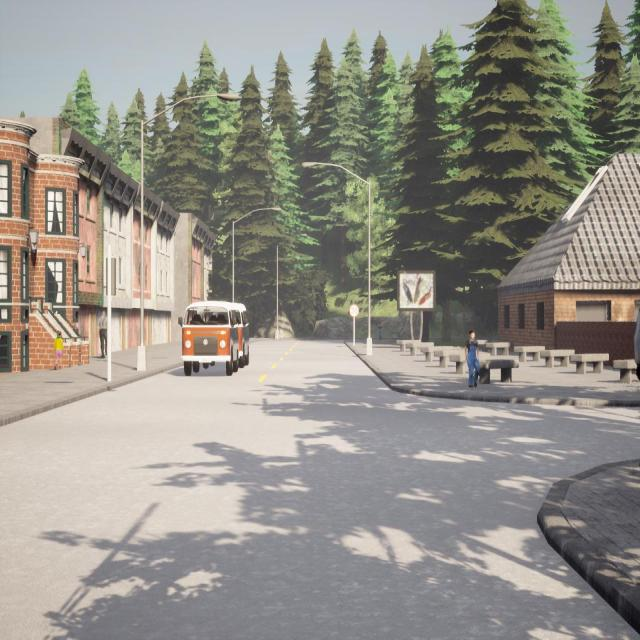Pedestrian: (464, 330, 480, 388), (96, 310, 108, 358), (52, 330, 65, 371), (376, 320, 384, 341)
Traffic_Signs: (349, 305, 360, 317)
Vehicle: (178, 301, 239, 375), (231, 302, 249, 368)
traffic_light: (106, 258, 116, 296)
